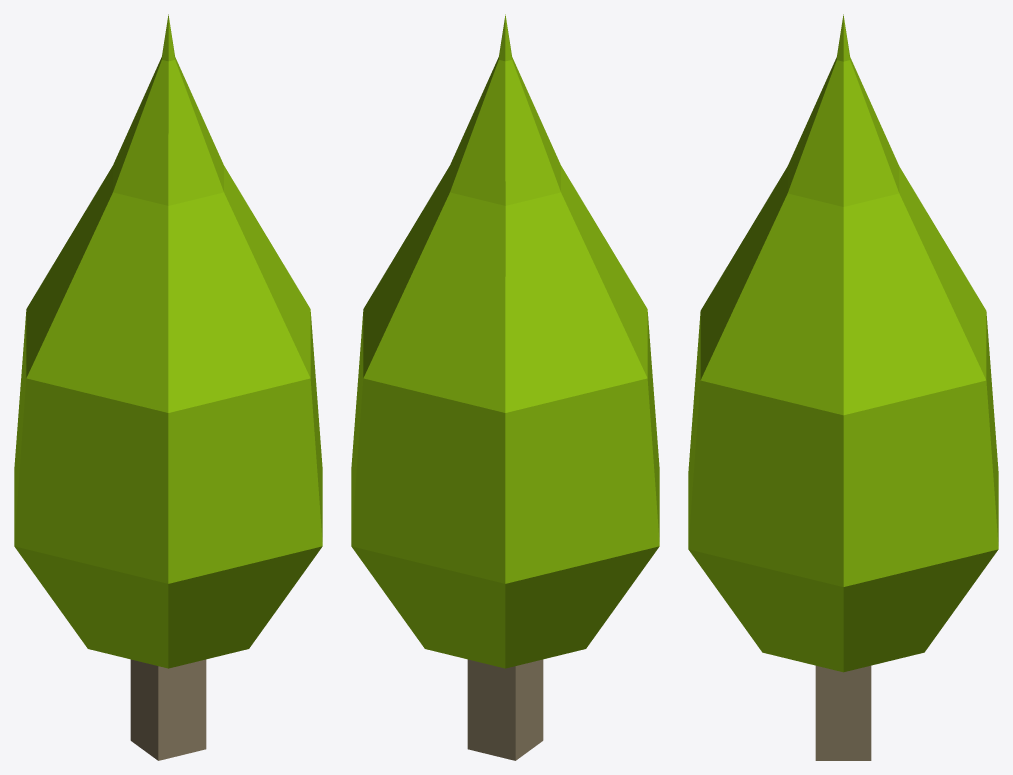
Rendered from tree_cone_2.fbx.
The picture shows the model from 3 angles, left to right: view 1: azimuth 30°, elevation 25°; view 2: azimuth 150°, elevation 25°; view 3: azimuth 270°, elevation 25°; orthographic projection.
Visible parts, largest first — view 1: tree_cone_2; view 2: tree_cone_2; view 3: tree_cone_2.
Part boxes in pixels (box(x1,y1,x2,y2)): tree_cone_2: box(14, 14, 322, 760); tree_cone_2: box(351, 14, 659, 760); tree_cone_2: box(688, 14, 998, 760).
Bounding box in the file's own units: 79.41 × 180 × 68.77.
